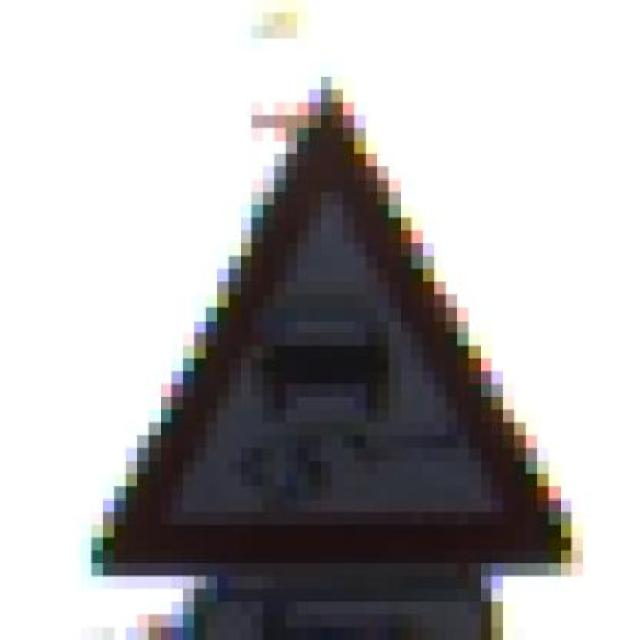Slippery Road Ahead: (68, 64, 594, 576)
